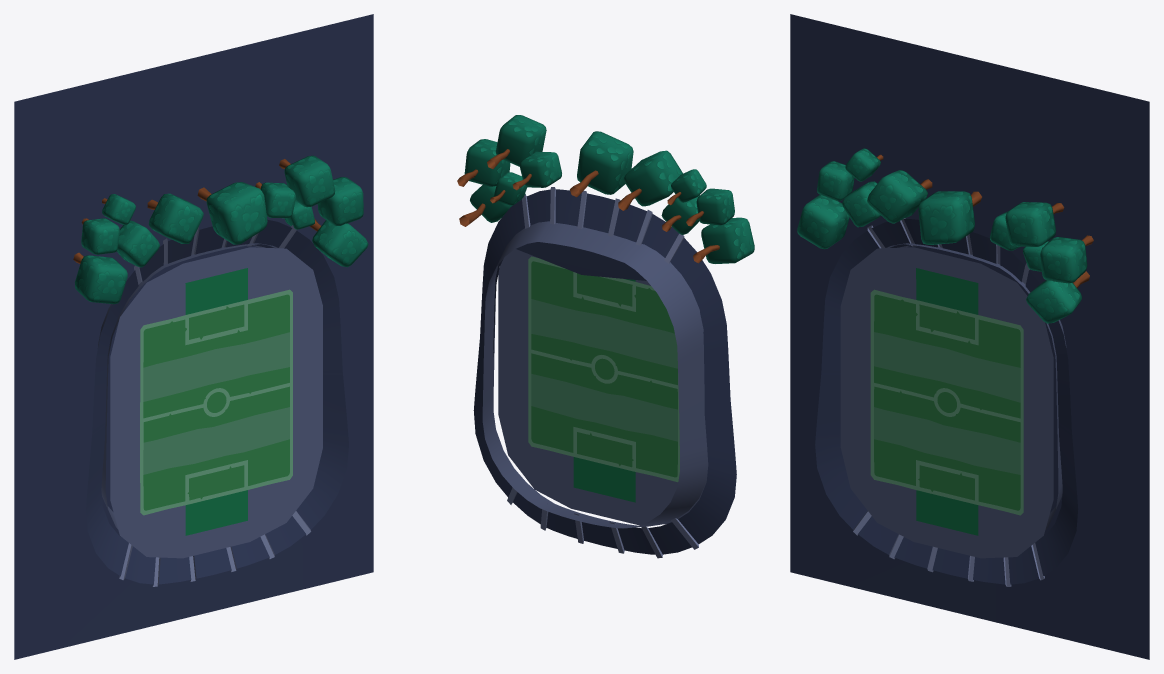
Rendered from bb_ground.glb.
3 views of the same model, side by side, from view 1: azimuth 30°, elevation 25°; view 2: azimuth 150°, elevation 25°; view 3: azimuth 330°, elevation 25° (orthographic).
Visible parts, largest first — view 1: Icosphere.004_mesh, ground.046, Lip.001_mesh, tree_cluster_top_mesh, Base.001_mesh; view 2: ground.046, Lip.001_mesh, tree_cluster_top_mesh, Base.001_mesh, Icosphere.004_mesh; view 3: Icosphere.004_mesh, ground.046, Lip.001_mesh, tree_cluster_top_mesh, Base.001_mesh.
Part boxes in pixels (bbox=[...]): Icosphere.004_mesh: bbox=[14, 14, 373, 659]; ground.046: bbox=[110, 247, 322, 558]; Lip.001_mesh: bbox=[86, 219, 348, 586]; tree_cluster_top_mesh: bbox=[73, 155, 368, 304]; Base.001_mesh: bbox=[97, 243, 278, 529]; ground.046: bbox=[498, 249, 706, 524]; Lip.001_mesh: bbox=[473, 187, 736, 558]; tree_cluster_top_mesh: bbox=[457, 115, 754, 263]; Base.001_mesh: bbox=[482, 221, 708, 528]; Icosphere.004_mesh: bbox=[516, 242, 646, 280]; Icosphere.004_mesh: bbox=[790, 14, 1149, 659]; ground.046: bbox=[840, 247, 1053, 558]; Lip.001_mesh: bbox=[815, 218, 1078, 586]; tree_cluster_top_mesh: bbox=[797, 148, 1093, 323]; Base.001_mesh: bbox=[886, 243, 1066, 529].
Size of the model in its own units: 51.56 by 76.48 by 12.
4 materials, 4 textured.
